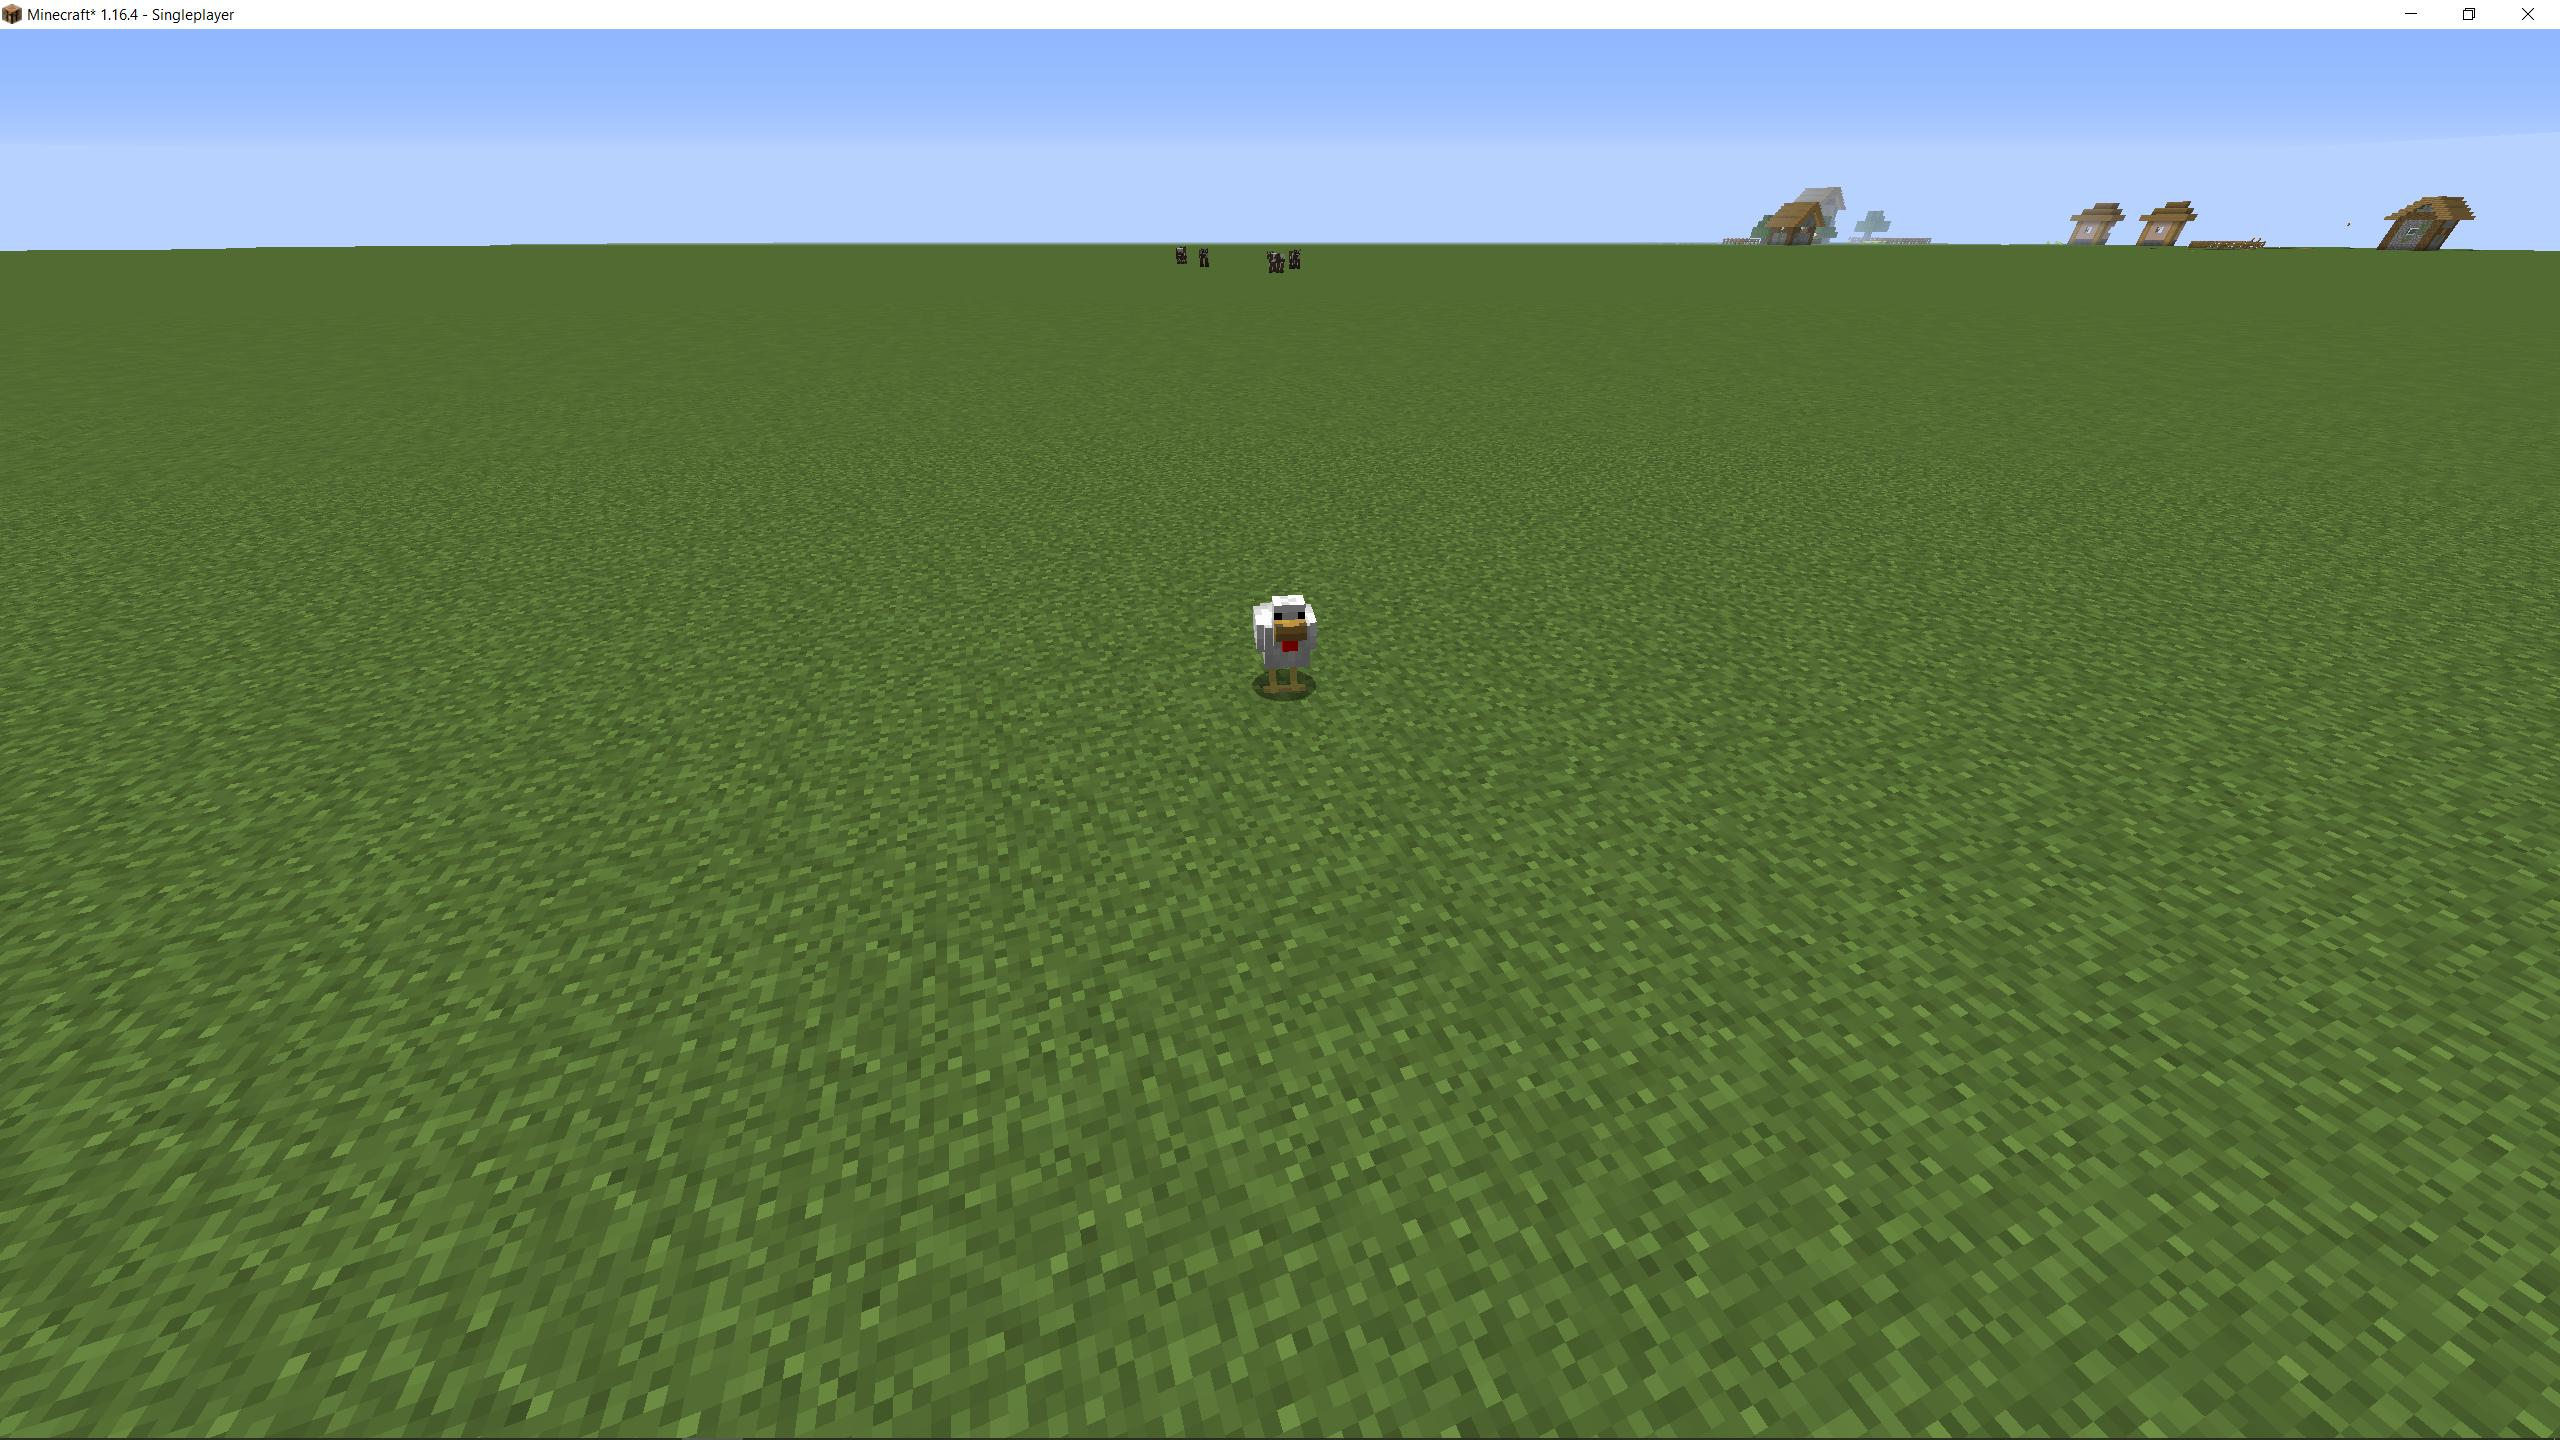chicken: (1245, 591, 1322, 695)
